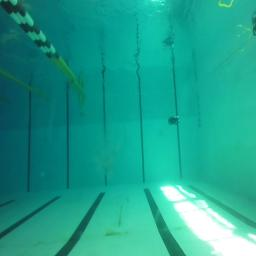Full: (168, 115, 180, 124), (253, 23, 256, 38)
